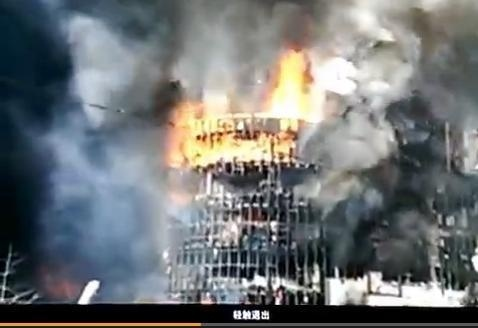fire: (166, 95, 295, 168), (263, 50, 318, 123)
